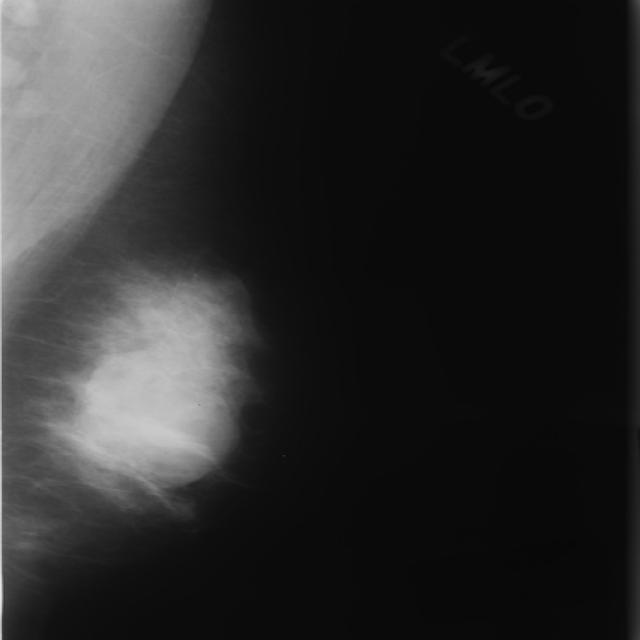tumour: (80, 359, 231, 474)
